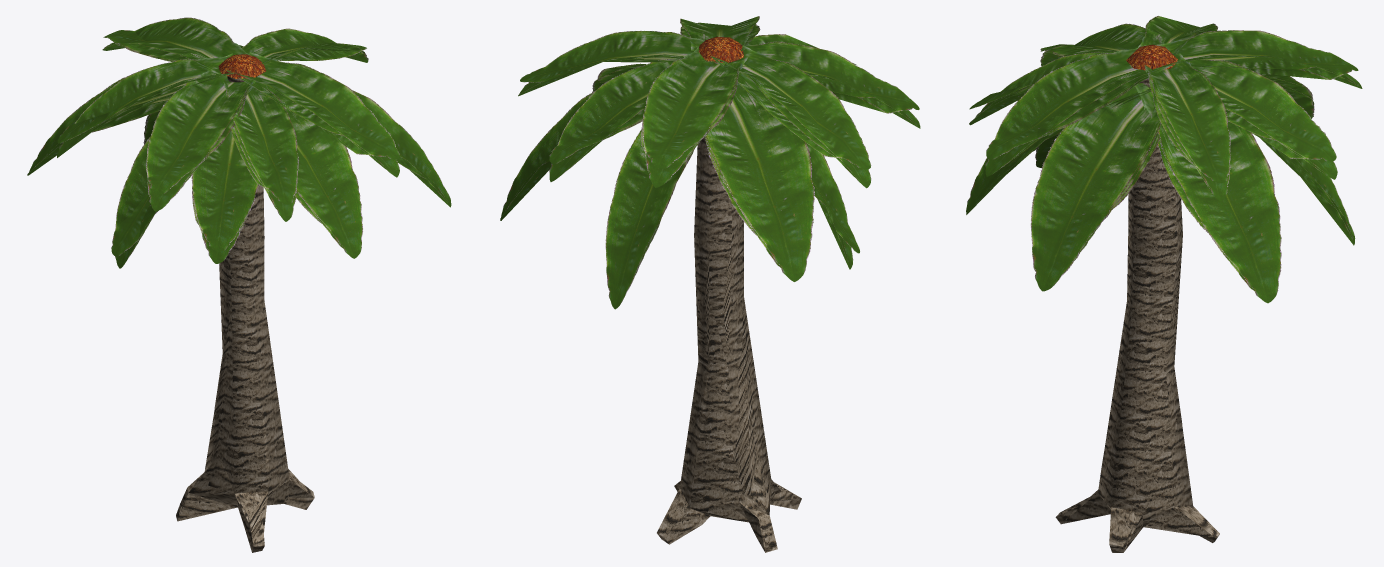
File: Bjuvia_01.DAE
3 renders of one model, left to right at view 1: azimuth 30°, elevation 25°; view 2: azimuth 150°, elevation 25°; view 3: azimuth 270°, elevation 25°, orthographic. The views are drawn at different scales.
Visible parts, largest first — view 1: BjuviaOne300, BjuviaOne200, BjuviaOne100; view 2: BjuviaOne300, BjuviaOne100, BjuviaOne200; view 3: BjuviaOne300, BjuviaOne200, BjuviaOne100.
Boxes of the visible parts, <box> form: BjuviaOne300: <box>27,17,451,552</box>; BjuviaOne200: <box>27,43,450,546</box>; BjuviaOne100: <box>57,30,426,522</box>; BjuviaOne300: <box>500,16,920,552</box>; BjuviaOne100: <box>520,22,919,522</box>; BjuviaOne200: <box>500,24,920,552</box>; BjuviaOne300: <box>966,16,1361,552</box>; BjuviaOne200: <box>967,31,1362,552</box>; BjuviaOne100: <box>968,16,1358,538</box>.
Size of what is drawn, in the model's own units: 7.87 by 7.48 by 9.8.
